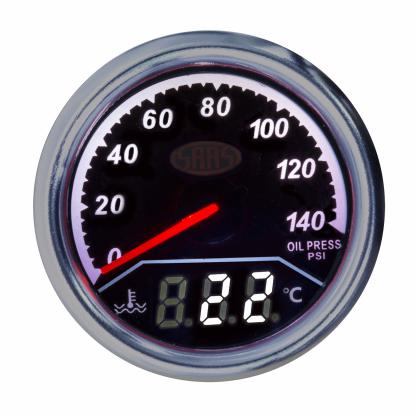needle: (101, 200, 221, 275)
